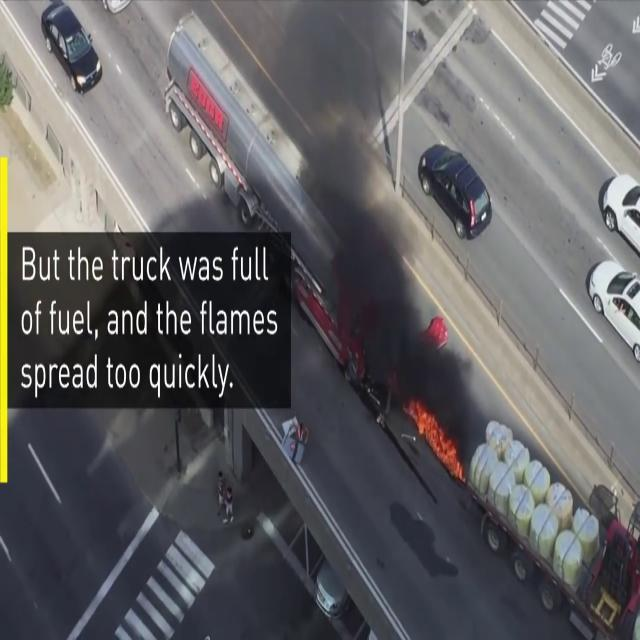Fire: (403, 391, 463, 478)
Smoke: (253, 0, 414, 217), (313, 188, 465, 402)
